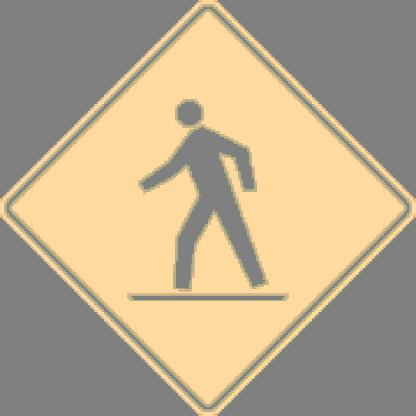Pedestrian Crossing: (64, 38, 373, 373)
